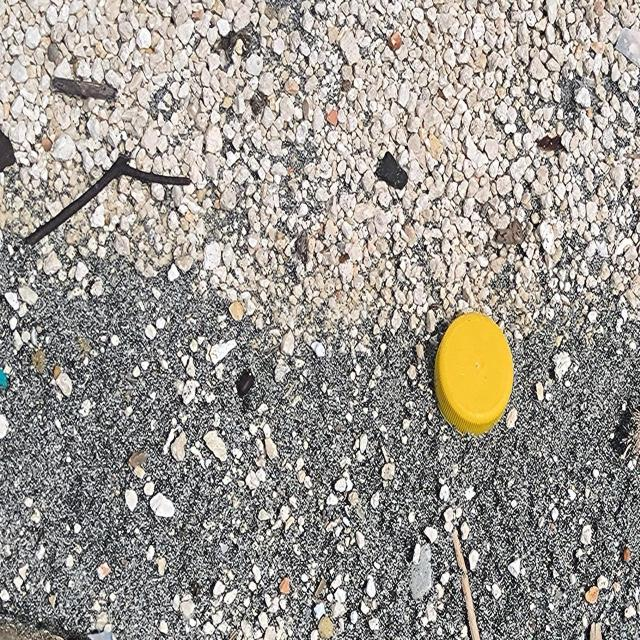plastic_waste: (433, 312, 515, 438)
